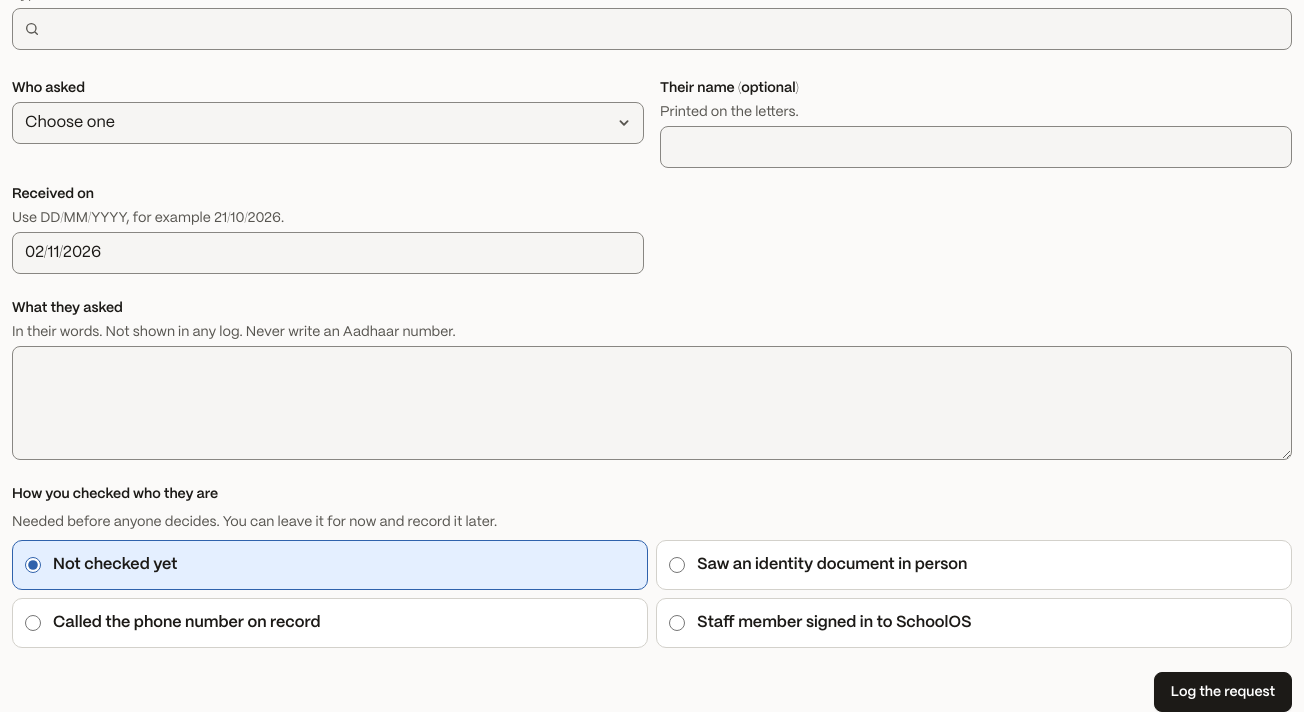
Test: US-2602 log a request › says what is missing before sending anything
The image size is (1304, 712).
(page scrolled)
Click the button "Log the request".
click(1223, 692)  # box [1154, 672, 1292, 711]
(page scrolled)
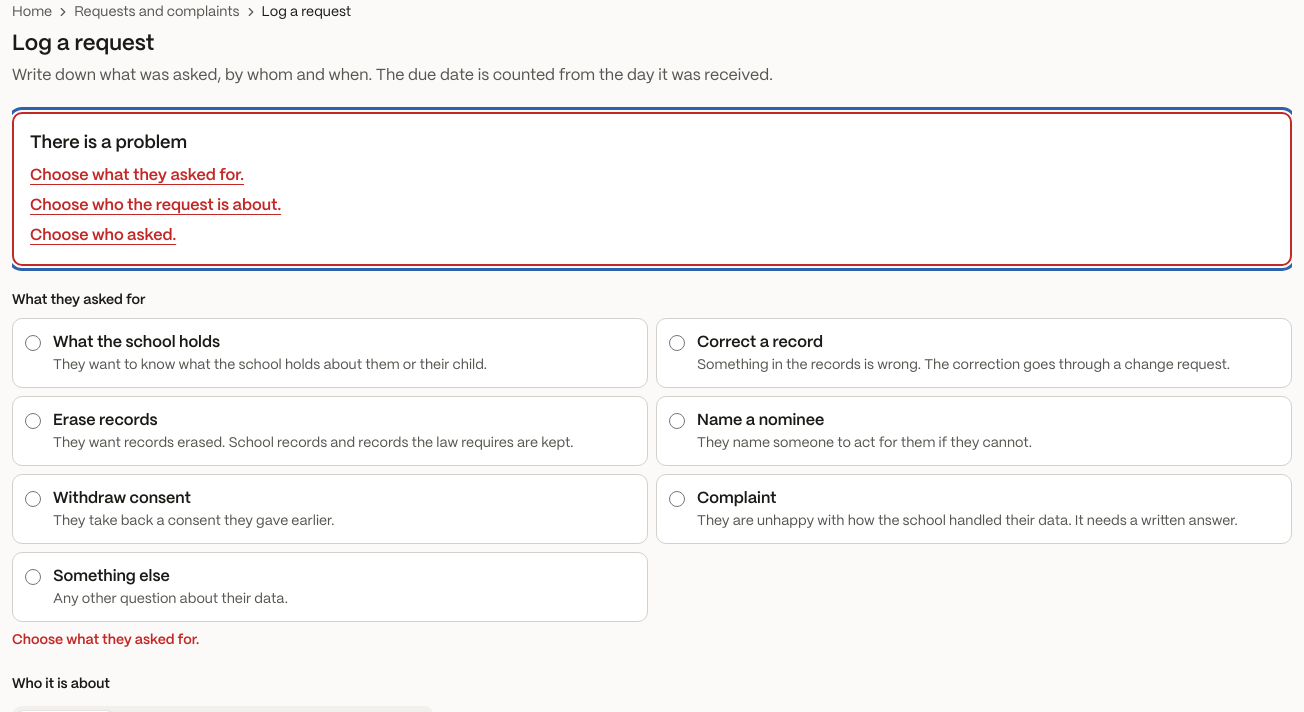
expect the link "Choose what they asked for." is shown: met, box [30, 168, 244, 183]
expect the link "Choose who the request is about." is shown: met, box [30, 198, 281, 213]
expect the link "Choose who asked." is shown: met, box [30, 228, 176, 243]
